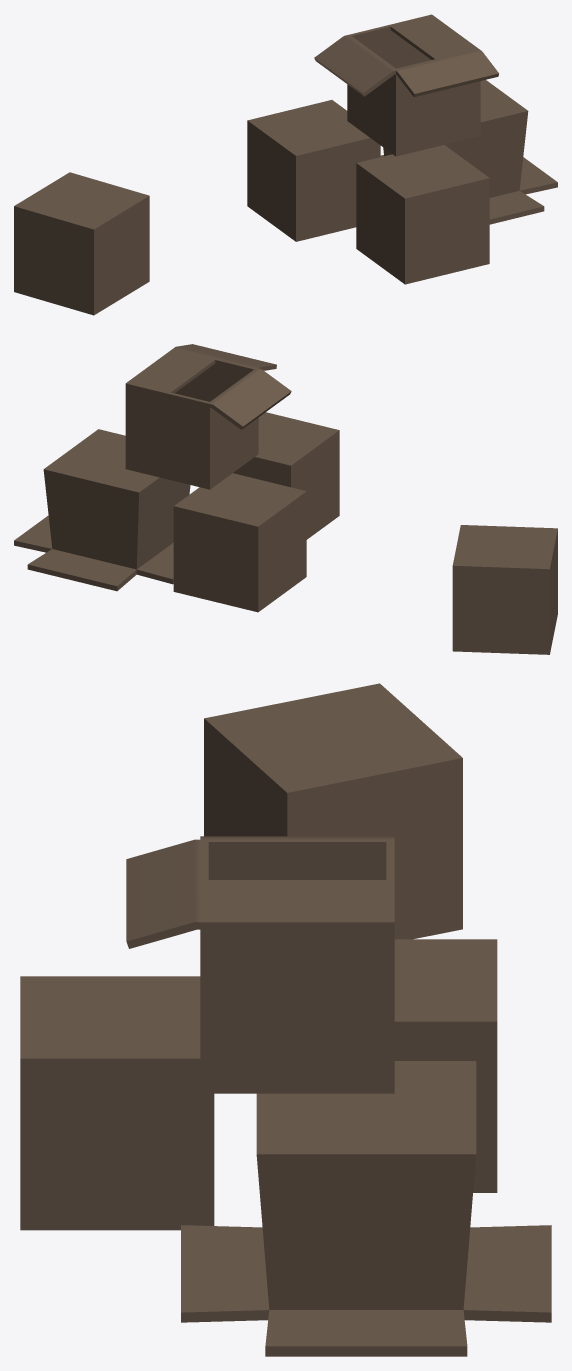
Rendered from pileofcardboard2.fbx.
The picture shows the model from 3 angles, top to bottom: view 1: azimuth 30°, elevation 25°; view 2: azimuth 150°, elevation 25°; view 3: azimuth 270°, elevation 25°; orthographic projection. The views are drawn at different scales.
Parts seen in each view (by area): view 1: polySurface422; view 2: polySurface422; view 3: polySurface422.
Part boxes in pixels (x1=…): polySurface422: x1=14, y1=14, x2=557, y2=315; polySurface422: x1=14, y1=344, x2=557, y2=654; polySurface422: x1=20, y1=683, x2=551, y2=1356.
Size of the model in its own units: 20.14 by 6.43 by 9.02.
